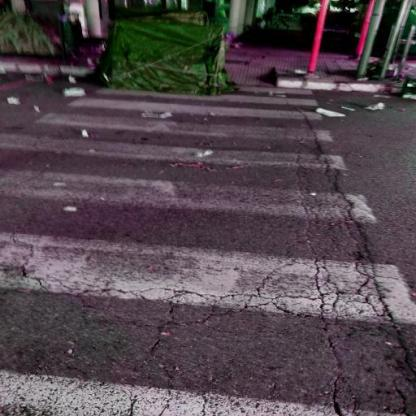crosswalk: (37, 94, 340, 148)
